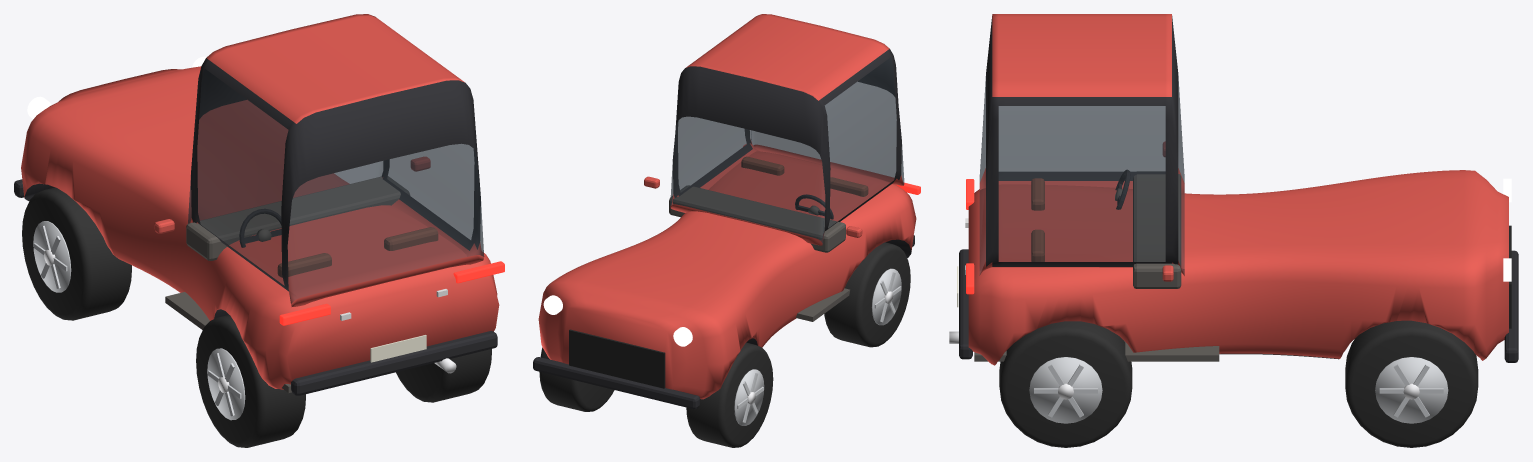
File: t_tractor.glb
The picture shows the model from 3 angles, left to right: view 1: azimuth 30°, elevation 25°; view 2: azimuth 150°, elevation 25°; view 3: azimuth 270°, elevation 25°; orthographic projection. The views are drawn at different scales.
Parts seen in each view (by area): view 1: Body.014, Glass.014, Wheel_FL.014, Wheel_RL.014, Interior.014, Wheel_RR.014, Lights_Tail.014, SteeringWheel.014; view 2: Body.014, Glass.014, Wheel_RL.014, Interior.014, Wheel_FL.014, Wheel_FR.014, Lights_Head.014; view 3: Body.014, Glass.014, Wheel_FR.014, Wheel_RR.014, Interior.014.
Boxes of the visible parts, x1=… form: Body.014: x1=14, y1=14, x2=499, y2=395; Glass.014: x1=188, y1=69, x2=484, y2=303; Wheel_FL.014: x1=22, y1=187, x2=131, y2=320; Wheel_RL.014: x1=196, y1=315, x2=305, y2=447; Interior.014: x1=165, y1=176, x2=438, y2=392; Wheel_RR.014: x1=396, y1=349, x2=491, y2=402; Lights_Tail.014: x1=279, y1=261, x2=504, y2=325; SteeringWheel.014: x1=239, y1=208, x2=281, y2=247; Body.014: x1=533, y1=14, x2=916, y2=409; Glass.014: x1=670, y1=57, x2=904, y2=242; Wheel_RL.014: x1=824, y1=242, x2=910, y2=347; Interior.014: x1=669, y1=156, x2=868, y2=321; Wheel_FL.014: x1=686, y1=342, x2=773, y2=447; Wheel_FR.014: x1=539, y1=347, x2=614, y2=411; Lights_Head.014: x1=543, y1=295, x2=692, y2=346; Body.014: x1=949, y1=14, x2=1518, y2=365; Glass.014: x1=979, y1=76, x2=1184, y2=275; Wheel_FR.014: x1=1345, y1=320, x2=1478, y2=447; Wheel_RR.014: x1=999, y1=321, x2=1132, y2=447; Interior.014: x1=974, y1=174, x2=1219, y2=361.
Size of the model in its own units: 2.26 by 2.75 by 4.11.
